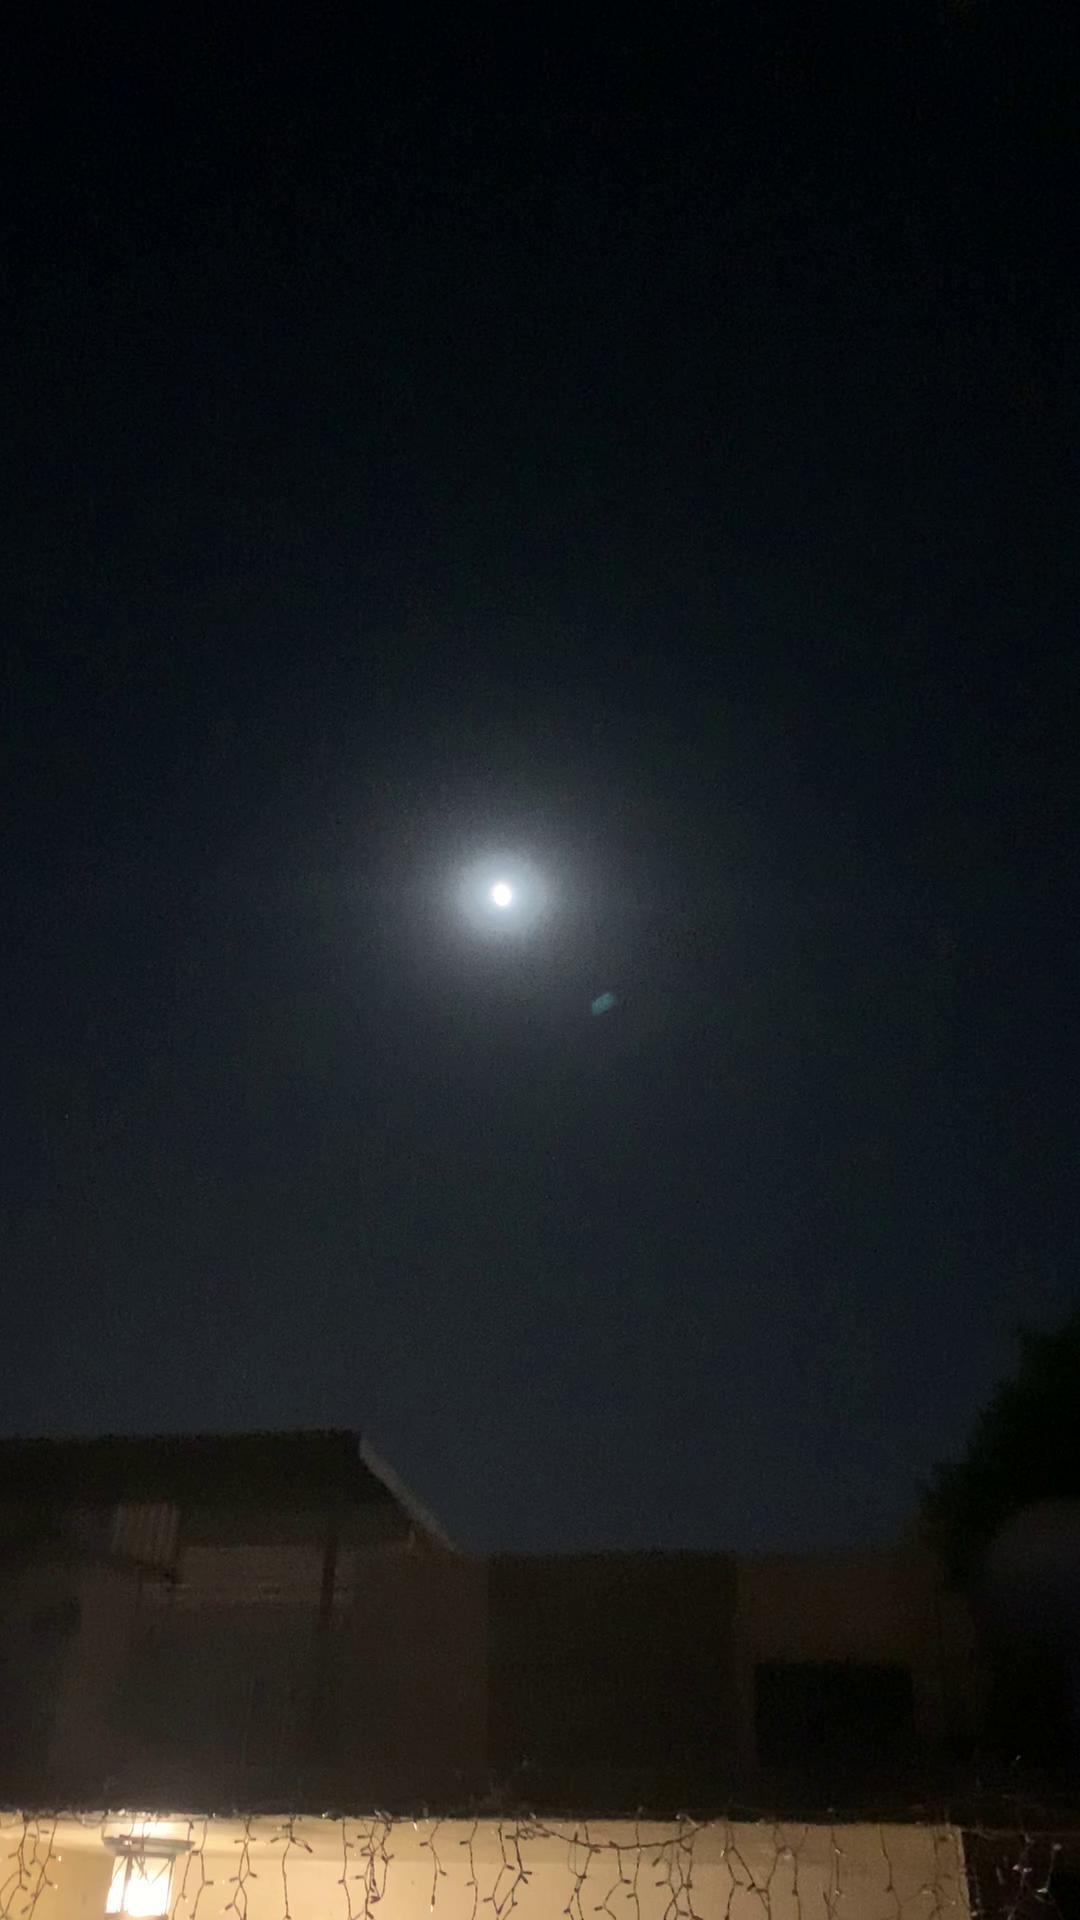moon: (459, 849, 546, 928)
